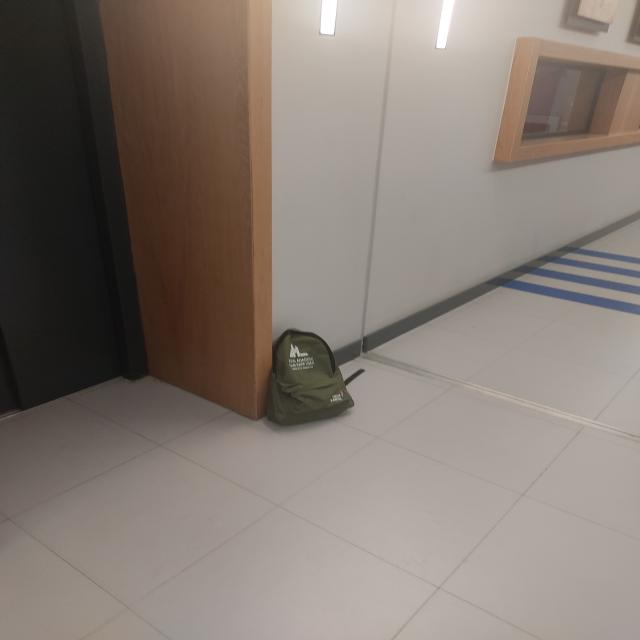bag: (260, 327, 362, 427)
